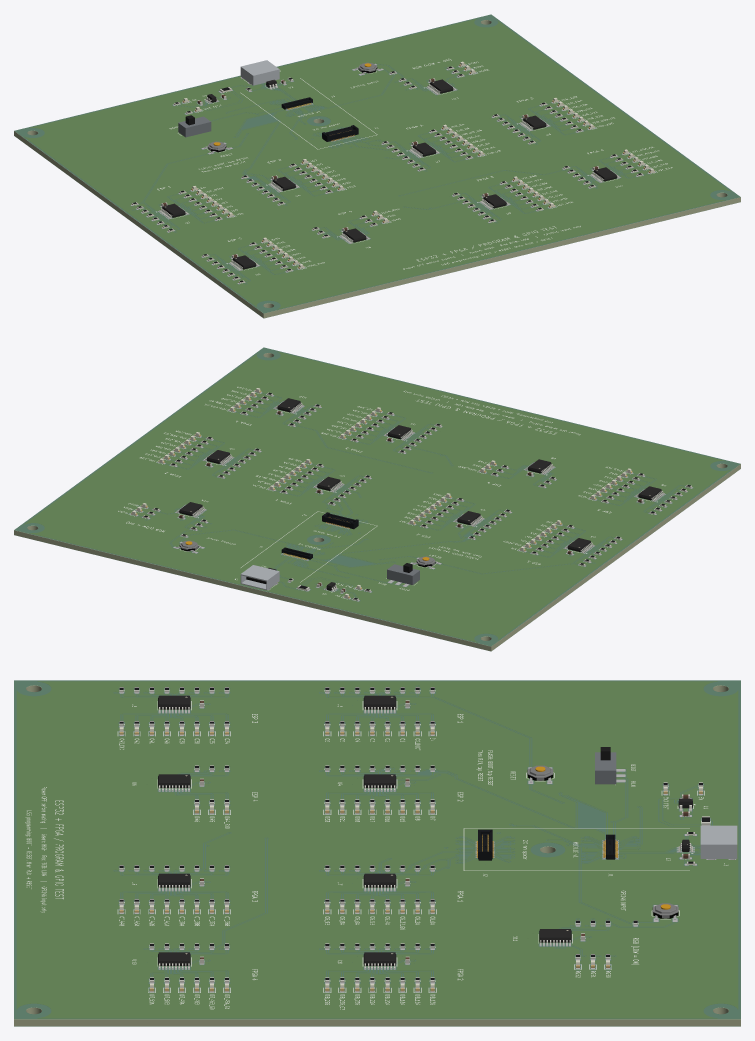
File: programming-carrier.glb
3 views of the same model, one above another, from view 1: azimuth 30°, elevation 25°; view 2: azimuth 150°, elevation 25°; view 3: azimuth 270°, elevation 25° (orthographic). The views are drawn at different scales.
Visible parts, largest first — view 1: =>[0:1:1:36], =>[0:1:1:32], =>[0:1:1:38], =>[0:1:1:35], =>[0:1:1:33], shield; view 2: =>[0:1:1:36], =>[0:1:1:32], =>[0:1:1:38], =>[0:1:1:35], =>[0:1:1:33], shield; view 3: =>[0:1:1:36], =>[0:1:1:32], =>[0:1:1:38], =>[0:1:1:35], =>[0:1:1:33], shield, =>[0:1:1:37], body.
Boxes of the visible parts, x1,y1,x2,y2 form: =>[0:1:1:36]: (14,14,740,313); =>[0:1:1:32]: (25,19,728,308); =>[0:1:1:38]: (14,15,740,318); =>[0:1:1:35]: (135,58,672,283); =>[0:1:1:33]: (131,63,655,284); shield: (240,60,279,85); =>[0:1:1:36]: (14,347,740,646); =>[0:1:1:32]: (26,352,729,641); =>[0:1:1:38]: (14,348,740,651); =>[0:1:1:35]: (118,387,683,600); =>[0:1:1:33]: (130,391,692,601); shield: (240,565,279,590); =>[0:1:1:36]: (14,680,740,1019); =>[0:1:1:32]: (17,682,737,1017); =>[0:1:1:38]: (14,681,740,1026); =>[0:1:1:35]: (25,690,728,1009); =>[0:1:1:33]: (119,688,735,992); shield: (700,825,737,858); =>[0:1:1:37]: (14,1026,740,1026); body: (595,752,616,784).
Bounding box in the file's own units: 0.16 × 0.00675 × 0.145.
